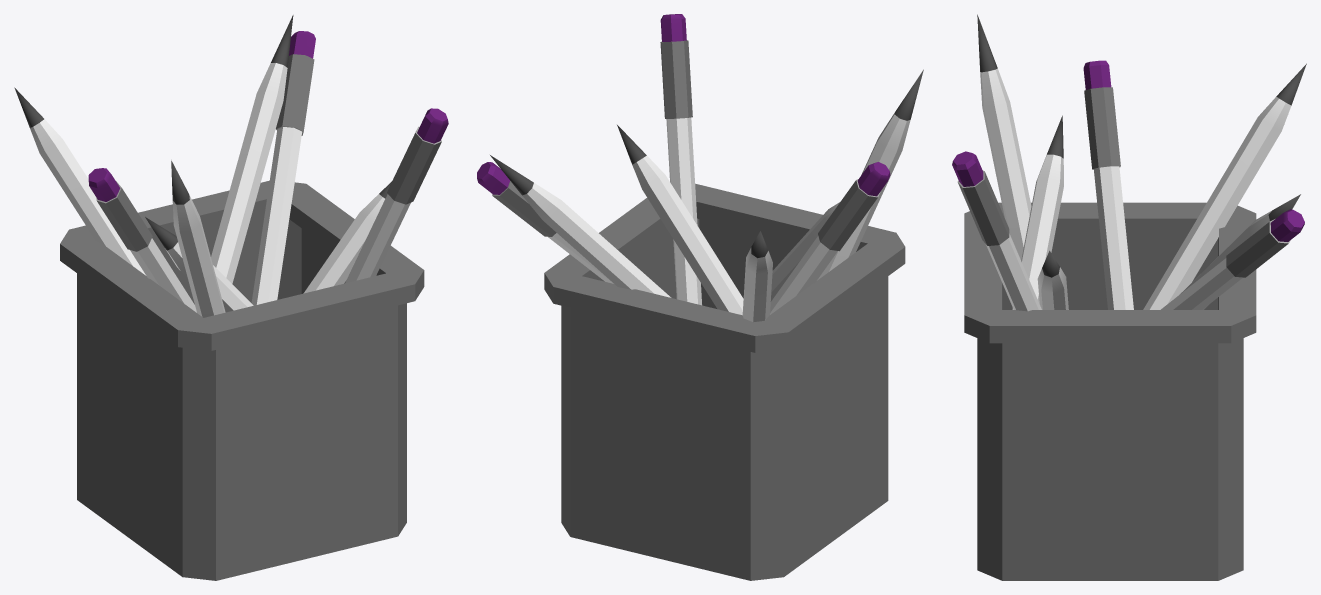
Rendered from PencilHolder.fbx.
3 views of the same model, side by side, from view 1: azimuth 30°, elevation 25°; view 2: azimuth 150°, elevation 25°; view 3: azimuth 270°, elevation 25° (orthographic). The views are drawn at different scales.
Parts seen in each view (by area): view 1: pCube5, polySurface1, polySurface2, polySurface6, polySurface3, polySurface5, polySurface7, polySurface4, polySurface8; view 2: pCube5, polySurface6, polySurface4, polySurface2, polySurface5, polySurface7, polySurface1, polySurface3, polySurface8; view 3: pCube5, polySurface3, polySurface5, polySurface7, polySurface6, polySurface1, polySurface8, polySurface4, polySurface2.
Boxes of the visible parts, x1,y1,x2,y2 form: pCube5: (60,180,424,580); polySurface1: (251,31,315,305); polySurface2: (211,15,293,283); polySurface6: (345,108,448,283); polySurface3: (14,87,146,275); polySurface5: (88,168,196,312); polySurface7: (171,160,225,317); polySurface4: (303,181,391,293); polySurface8: (145,217,253,312); pCube5: (544,183,905,580); polySurface6: (660,14,701,305); polySurface4: (617,125,743,315); polySurface2: (490,155,671,297); polySurface5: (770,162,890,314); polySurface7: (817,69,923,280); polySurface1: (477,162,613,283); polySurface3: (742,231,772,322); polySurface8: (770,202,839,301); pCube5: (964,202,1256,580); polySurface3: (1143,63,1306,309); polySurface5: (1083,60,1133,309); polySurface7: (977,14,1031,260); polySurface6: (952,151,1041,311); polySurface1: (1161,209,1304,309); polySurface8: (1012,115,1063,309); polySurface4: (1037,250,1068,309); polySurface2: (1179,194,1300,309).
Bounding box in the file's own units: 0.2578 × 0.3331 × 0.2419.
